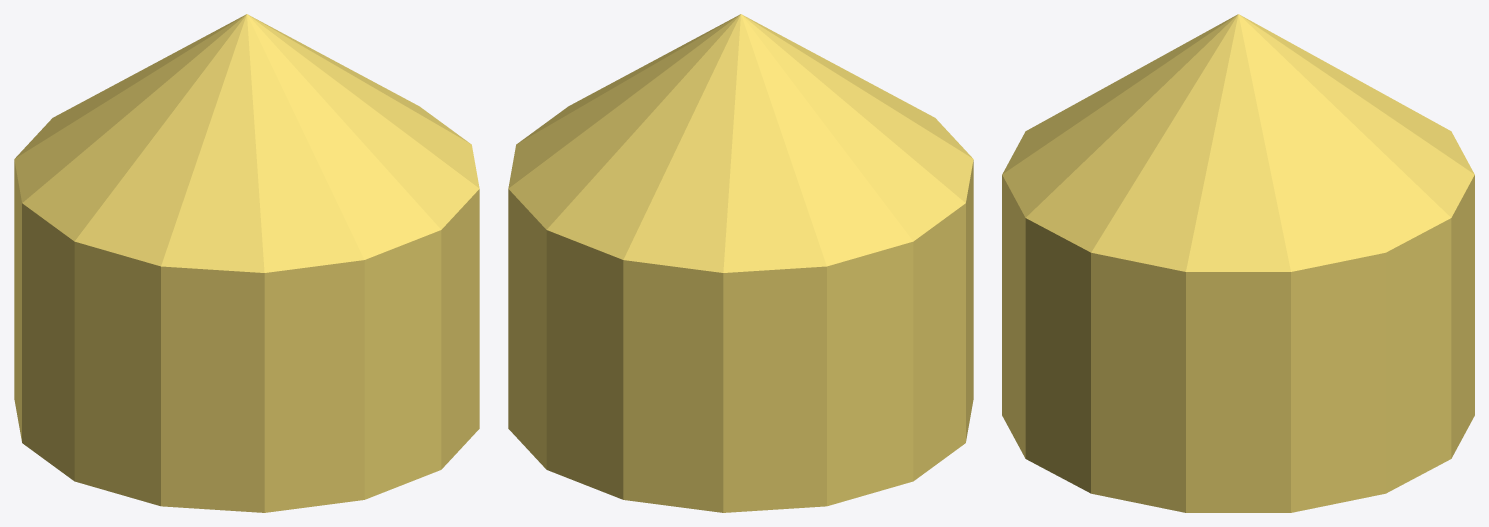
The model's file is SM_Env_Haystack_01.glb.
The picture shows the model from 3 angles, left to right: view 1: azimuth 30°, elevation 25°; view 2: azimuth 150°, elevation 25°; view 3: azimuth 270°, elevation 25°; orthographic projection.
Parts seen in each view (by area): view 1: SM_Hay_Base, SM_Hay_Top; view 2: SM_Hay_Base, SM_Hay_Top; view 3: SM_Hay_Base, SM_Hay_Top.
Boxes of the visible parts, x1,y1,x2,y2 form: SM_Hay_Base: (14,160,479,512); SM_Hay_Top: (14,14,479,272); SM_Hay_Base: (508,160,973,512); SM_Hay_Top: (508,14,973,272); SM_Hay_Base: (1002,175,1474,512); SM_Hay_Top: (1002,14,1474,271).
Bounding box in the file's own units: 1.56 × 1.5 × 1.6.
